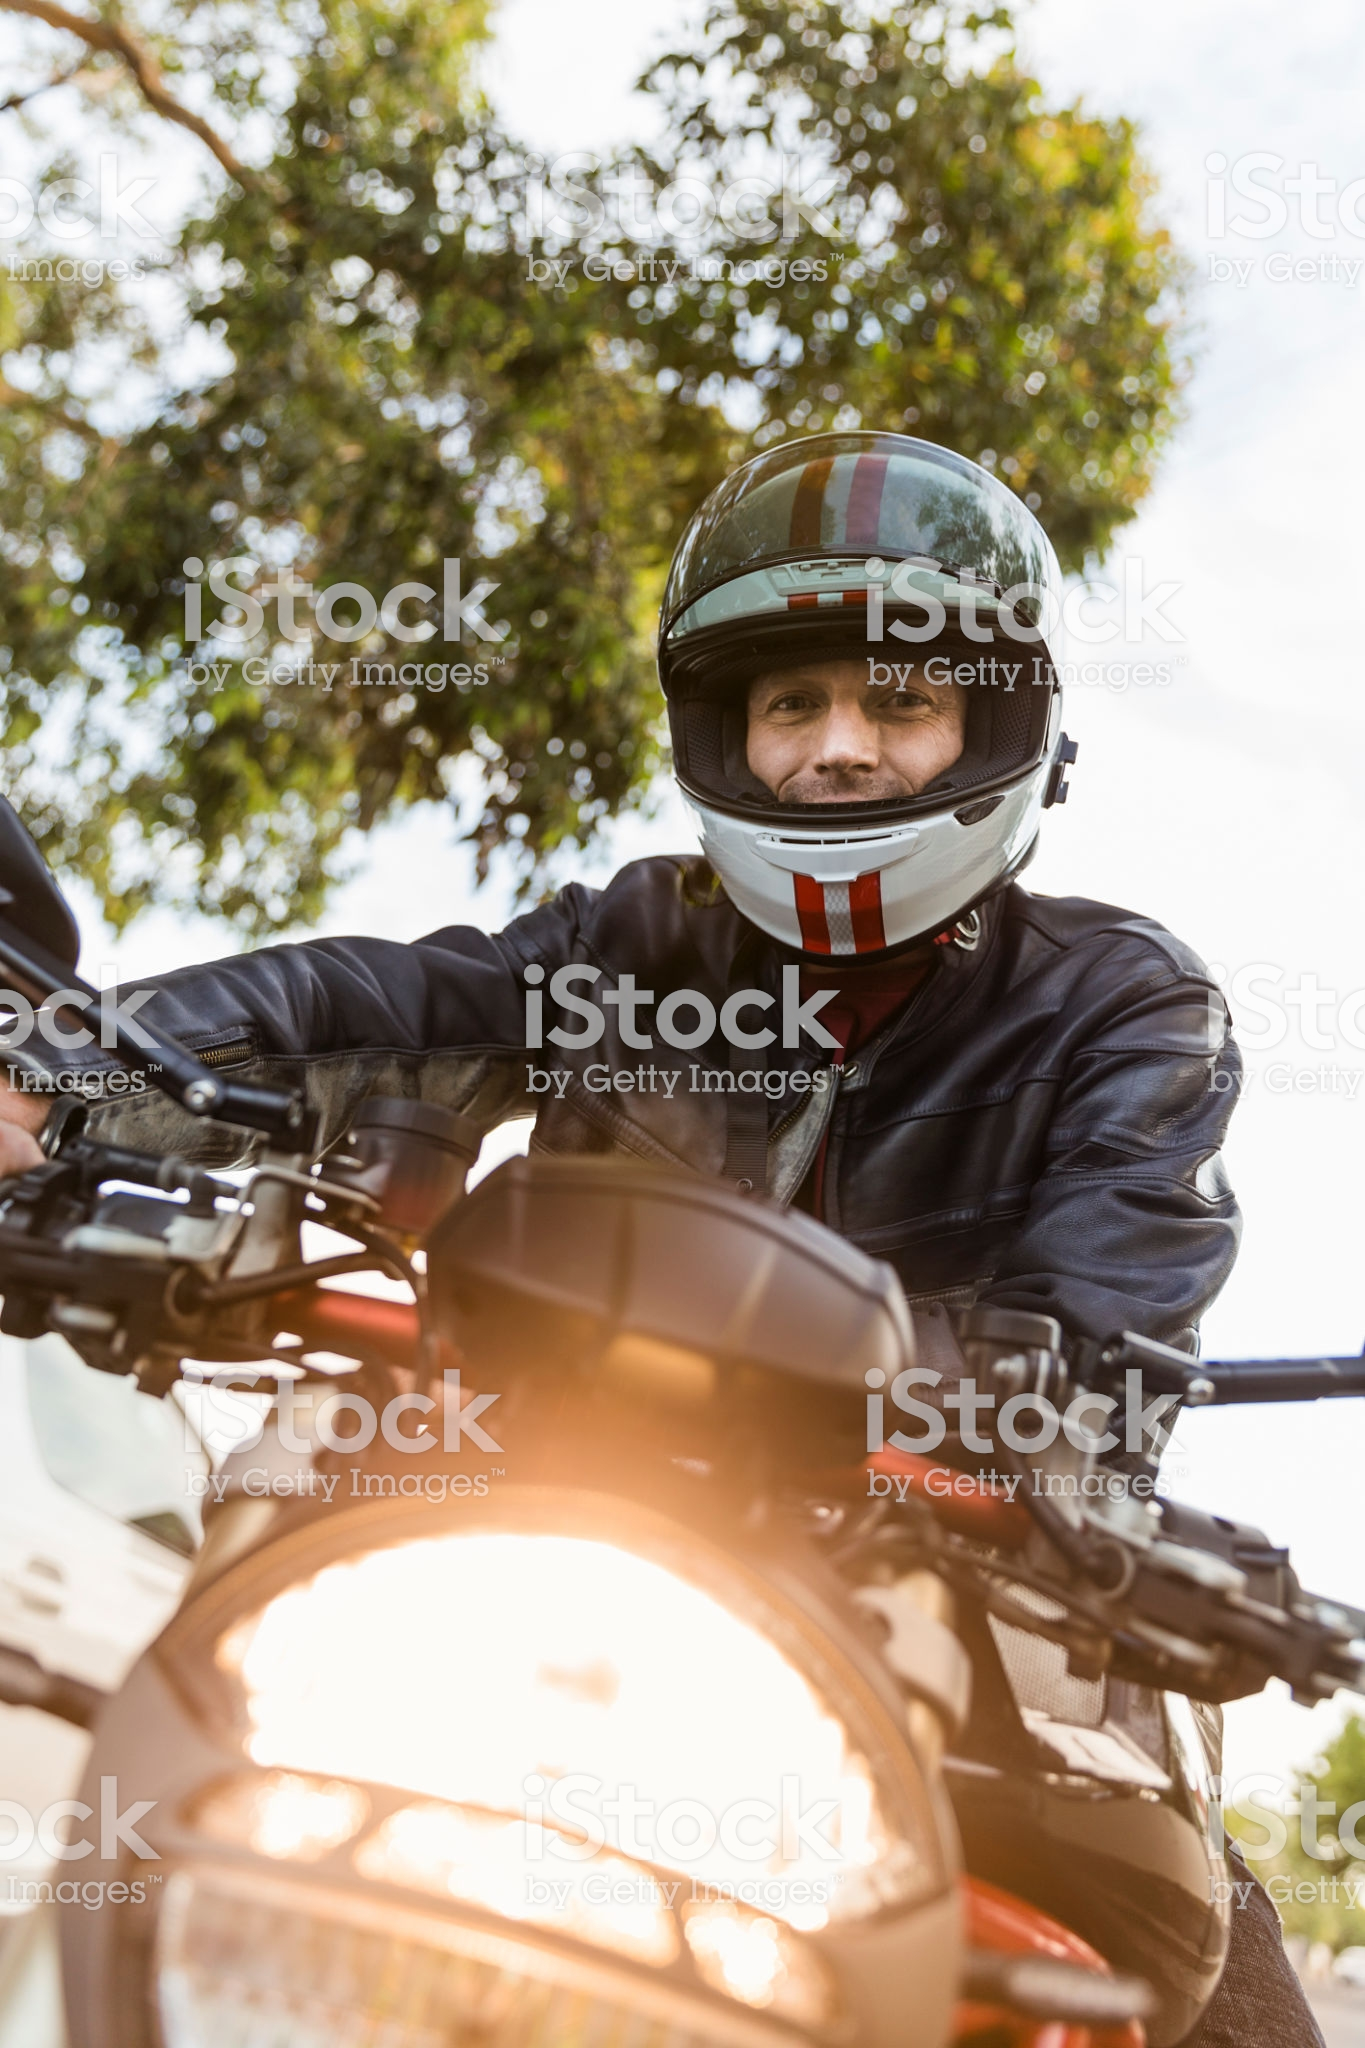helmet: (644, 416, 1104, 965)
